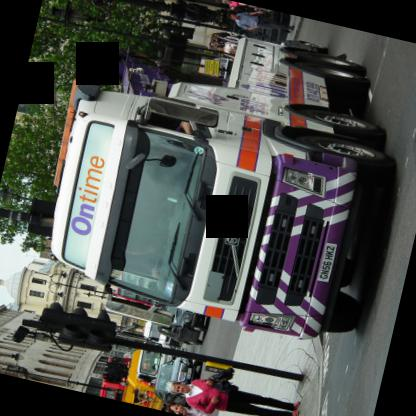handbag: (213, 381, 239, 394)
